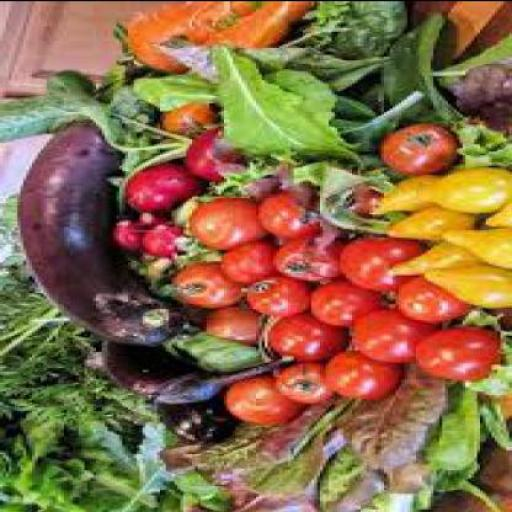biodegradable: (14, 124, 187, 345), (0, 266, 164, 428), (0, 414, 234, 510), (216, 49, 344, 163), (41, 68, 189, 154), (99, 340, 279, 405), (238, 397, 349, 501), (114, 2, 268, 76), (110, 2, 265, 73), (174, 1, 315, 70), (411, 383, 483, 508), (355, 372, 434, 476), (378, 15, 454, 123), (288, 163, 399, 232), (108, 130, 189, 204), (326, 91, 419, 154), (335, 236, 433, 290), (410, 327, 497, 383), (457, 308, 509, 401), (353, 309, 436, 365), (157, 331, 265, 374), (450, 63, 510, 138), (430, 35, 509, 91), (223, 372, 300, 428), (268, 226, 340, 285), (1, 92, 84, 143), (186, 197, 264, 251), (416, 169, 510, 213), (262, 314, 346, 363), (376, 124, 456, 175), (332, 2, 404, 58), (453, 60, 509, 130), (421, 266, 509, 310), (122, 164, 198, 214), (320, 354, 401, 399), (305, 281, 382, 328), (151, 402, 235, 444), (308, 440, 358, 510), (378, 207, 477, 242), (384, 242, 480, 277), (128, 76, 218, 112), (174, 263, 244, 308), (180, 128, 238, 182), (364, 174, 436, 216), (215, 242, 282, 286), (264, 72, 328, 118), (396, 280, 466, 322), (436, 227, 509, 267), (453, 118, 509, 170), (195, 164, 276, 199), (256, 195, 318, 239), (239, 279, 305, 319), (294, 2, 344, 50), (198, 308, 259, 347), (276, 361, 332, 403), (341, 186, 393, 229), (213, 163, 282, 195), (472, 397, 509, 451), (155, 104, 206, 140), (125, 258, 172, 297), (166, 197, 207, 233), (94, 61, 128, 104), (456, 482, 506, 511), (140, 224, 180, 260), (326, 93, 372, 122), (357, 492, 422, 511), (111, 220, 143, 254), (474, 196, 509, 226), (137, 213, 160, 229)
